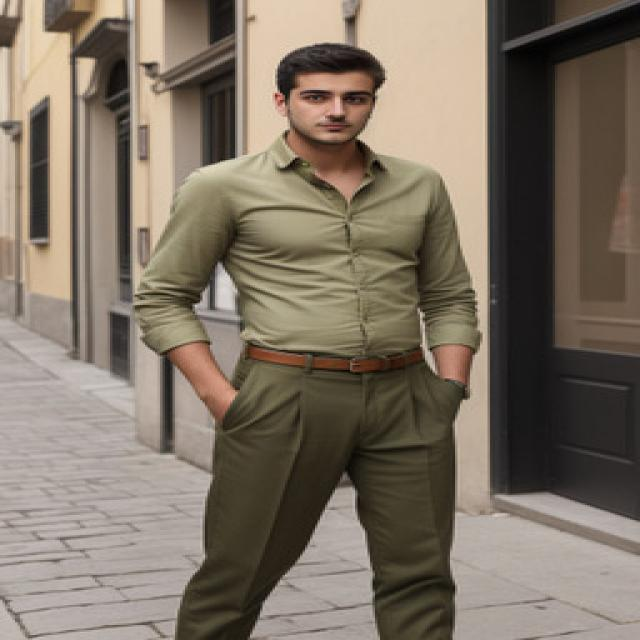Ai human 2: (125, 35, 497, 640)
